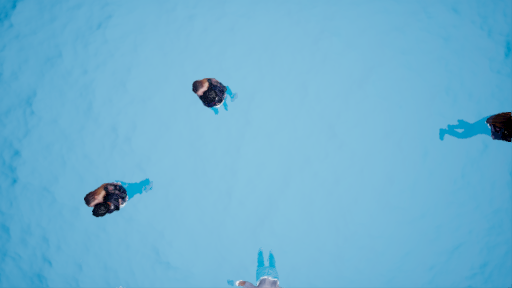person: (85, 181, 156, 220), (438, 112, 512, 149), (227, 246, 284, 288), (191, 76, 241, 115)
